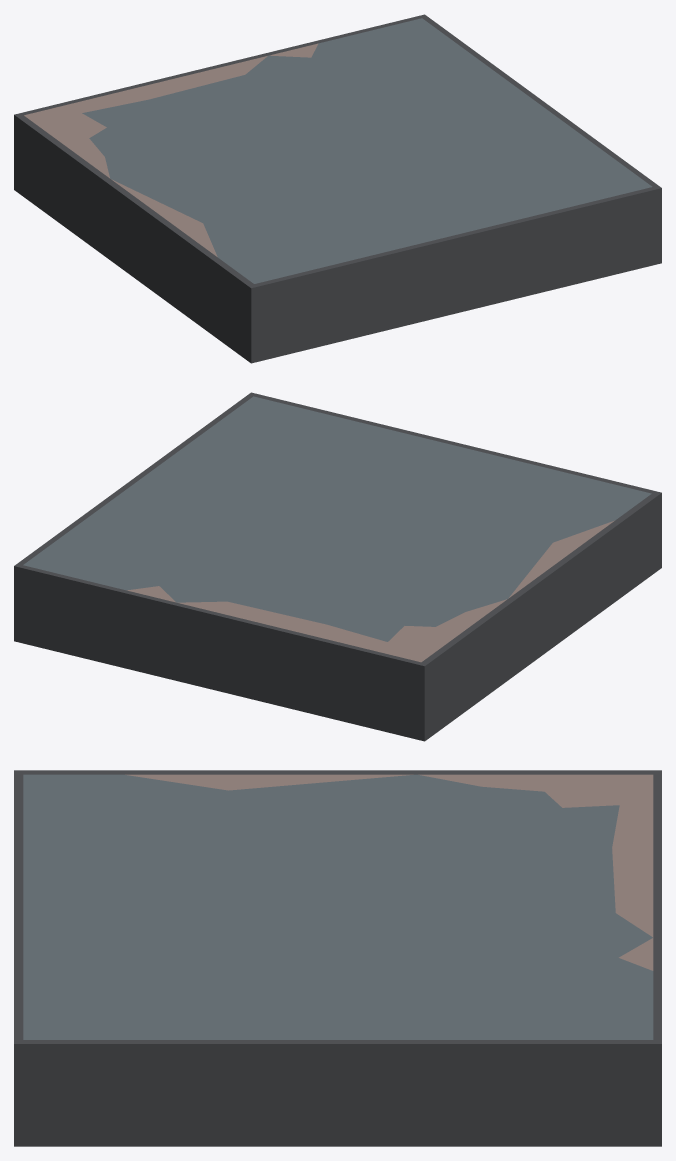
Rendered from g_t_GarageFloorRusty.fbx.
3 views of the same model, one above another, from view 1: azimuth 30°, elevation 25°; view 2: azimuth 150°, elevation 25°; view 3: azimuth 270°, elevation 25° (orthographic). The views are drawn at different scales.
Parts seen in each view (by area): view 1: g_t_GarageFloorr1; view 2: g_t_GarageFloorr1; view 3: g_t_GarageFloorr1.
Part boxes in pixels (<box>): g_t_GarageFloorr1: <box>14,14,661,363</box>; g_t_GarageFloorr1: <box>14,392,661,741</box>; g_t_GarageFloorr1: <box>14,770,661,1146</box>.
Size of the model in its own units: 1 by 0.175 by 1.
